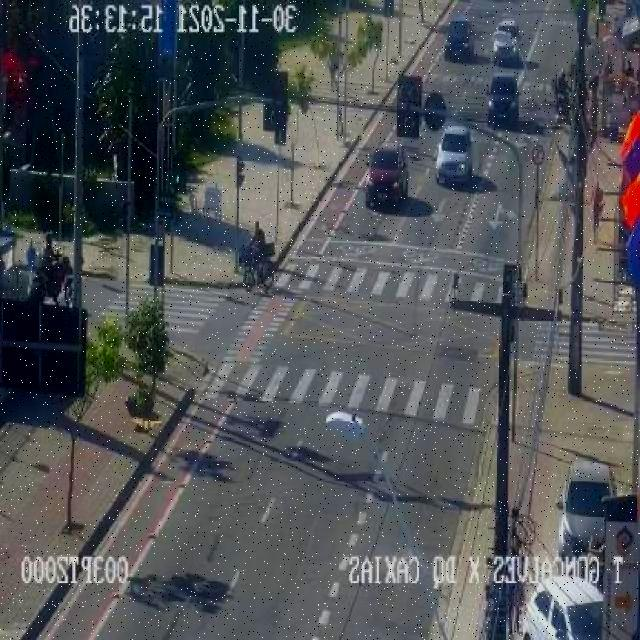Car: (556, 460, 617, 557), (524, 576, 606, 639), (366, 143, 410, 204), (435, 125, 475, 187), (487, 74, 520, 129), (490, 19, 522, 62), (446, 14, 474, 61)
Cycle: (239, 246, 276, 290)
